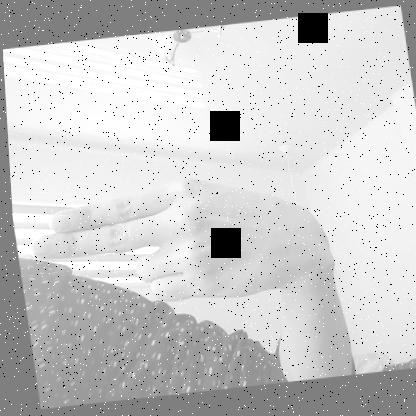H: (20, 164, 340, 320)
